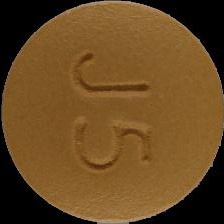0093-7693: (0, 0, 224, 224)
